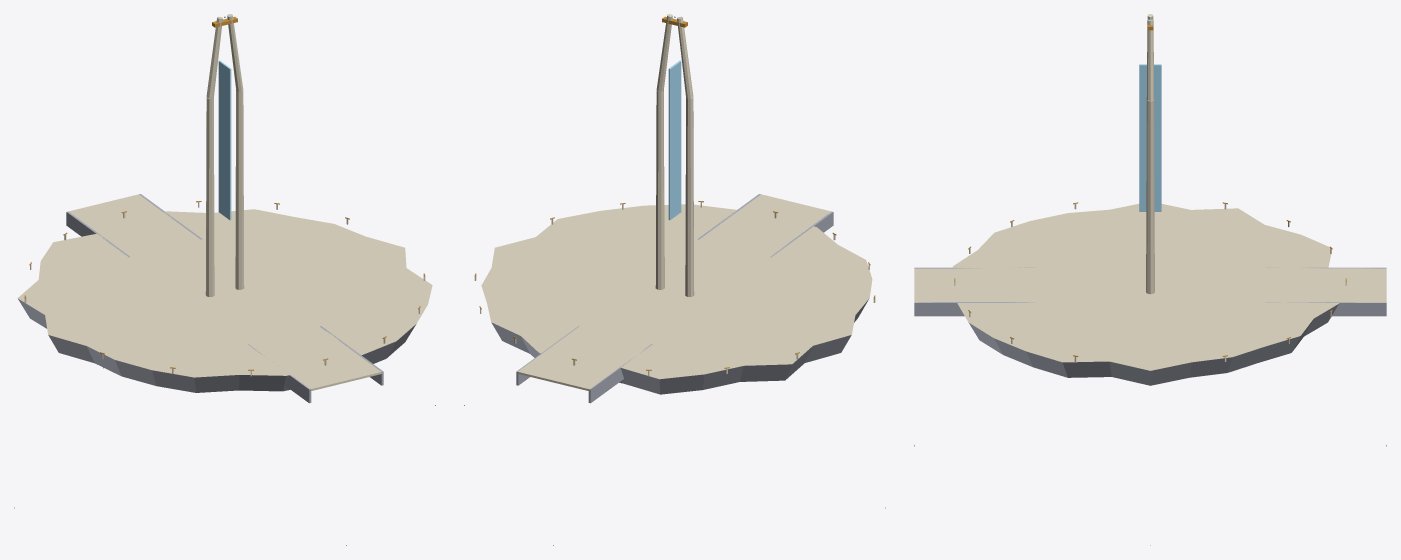
Rendered from chunk_es_reliquary_court.fbx.
3 views of the same model, side by side, from view 1: azimuth 30°, elevation 25°; view 2: azimuth 150°, elevation 25°; view 3: azimuth 270°, elevation 25° (orthographic). The views are drawn at different scales.
Parts seen in each view (by area): view 1: ES_RELIQUARY_COURT; view 2: ES_RELIQUARY_COURT; view 3: ES_RELIQUARY_COURT.
Boxes of the visible parts, bbox=[...] form: ES_RELIQUARY_COURT: bbox=[14, 14, 435, 545]; ES_RELIQUARY_COURT: bbox=[464, 14, 885, 545]; ES_RELIQUARY_COURT: bbox=[914, 14, 1386, 545].
Bounding box in the file's own units: 256 × 256 × 256.
